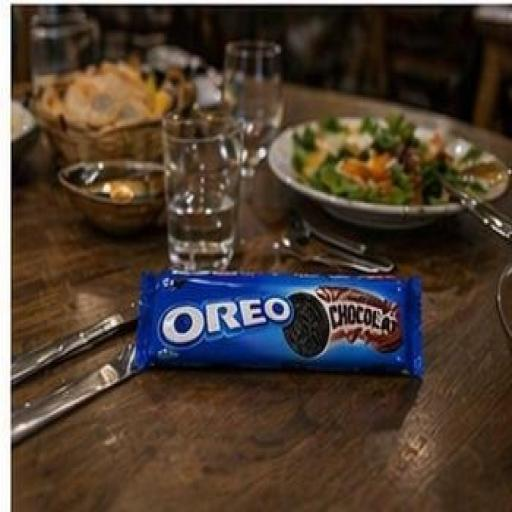oreo: (126, 198, 456, 425)
